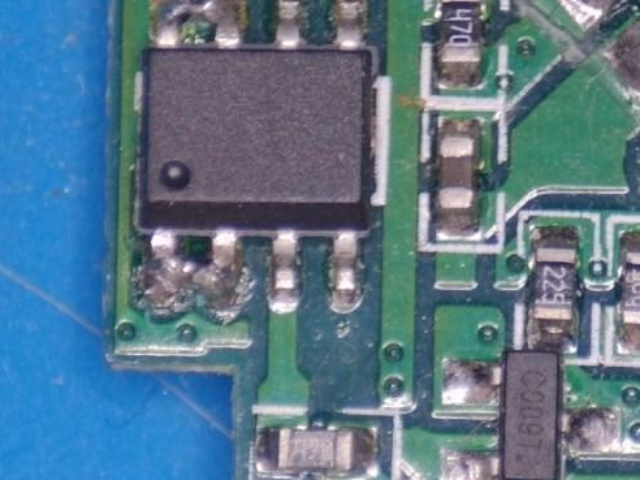pcb_defect: (138, 229, 255, 323), (156, 0, 241, 46)
